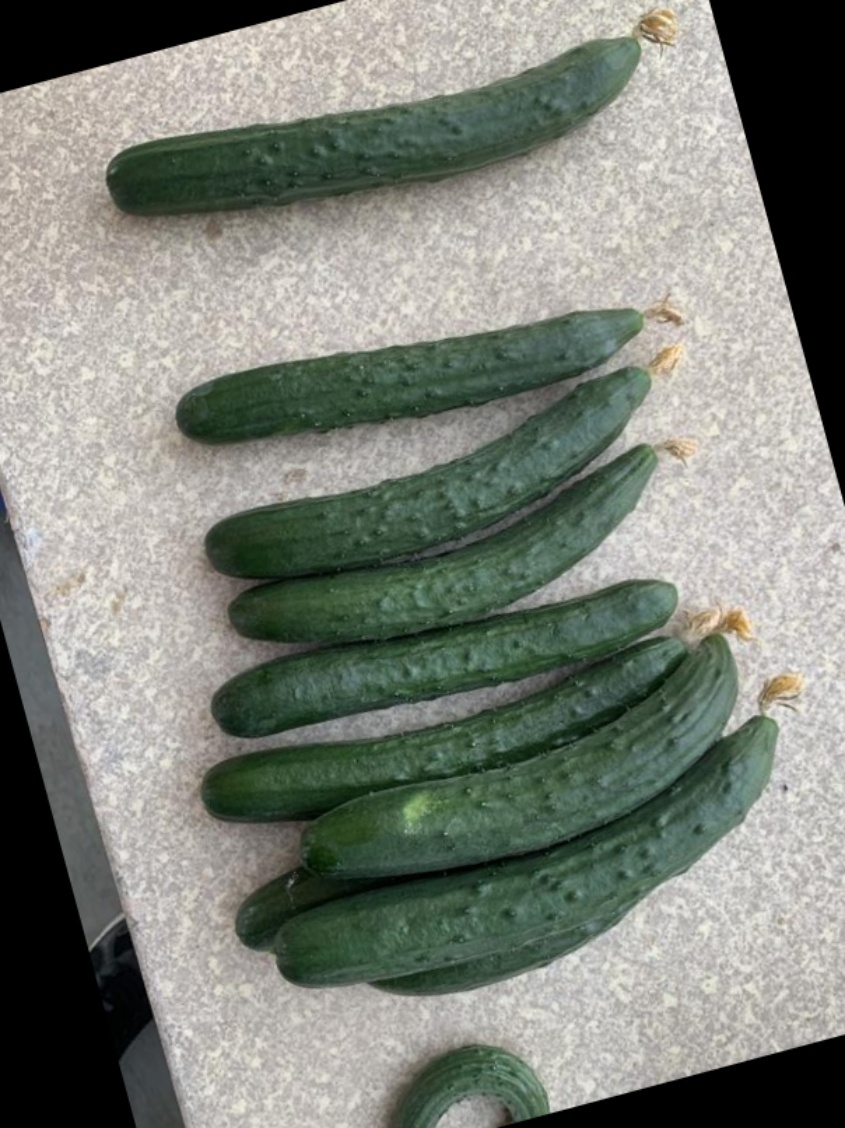mature: (271, 713, 778, 978)
